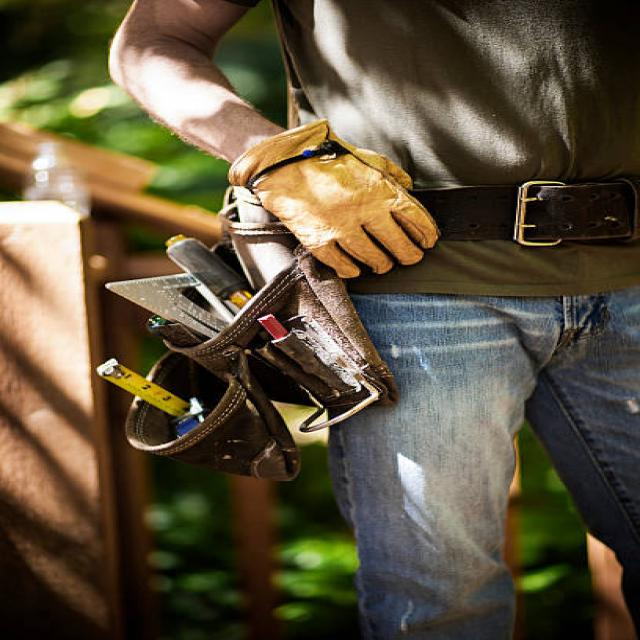gloves: (229, 123, 438, 280)
